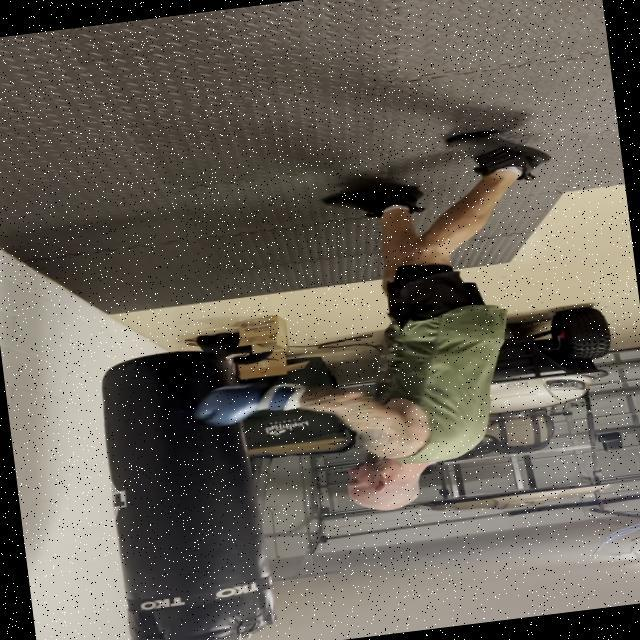bag: (77, 339, 290, 640)
hook: (168, 340, 509, 542)
